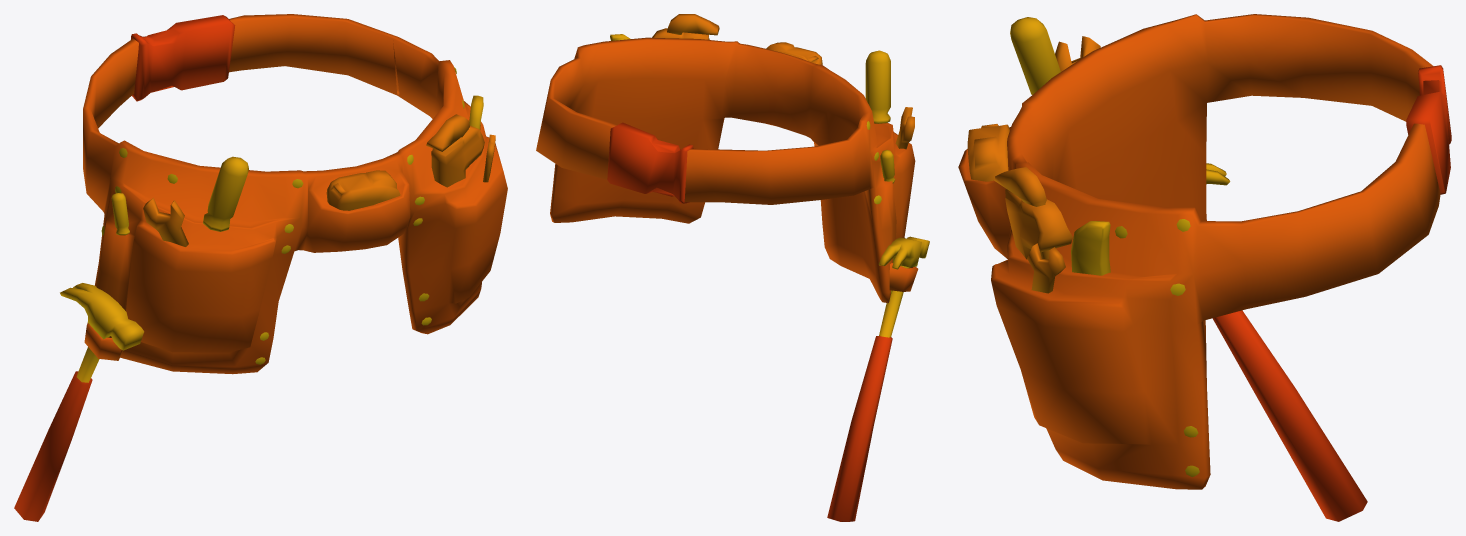
Rendered from coldremasc2.glb.
The picture shows the model from 3 angles, left to right: view 1: azimuth 30°, elevation 25°; view 2: azimuth 150°, elevation 25°; view 3: azimuth 270°, elevation 25°; orthographic projection. The views are drawn at different scales.
Parts seen in each view (by area): view 1: hash_34E243B9.model; view 2: hash_34E243B9.model; view 3: hash_34E243B9.model.
Boxes of the visible parts, x1,y1,x2,y2 form: hash_34E243B9.model: (14, 14, 507, 521); hash_34E243B9.model: (536, 14, 929, 521); hash_34E243B9.model: (958, 14, 1451, 521).
Bounding box in the file's own units: 0.4974 × 0.5044 × 0.4102.
